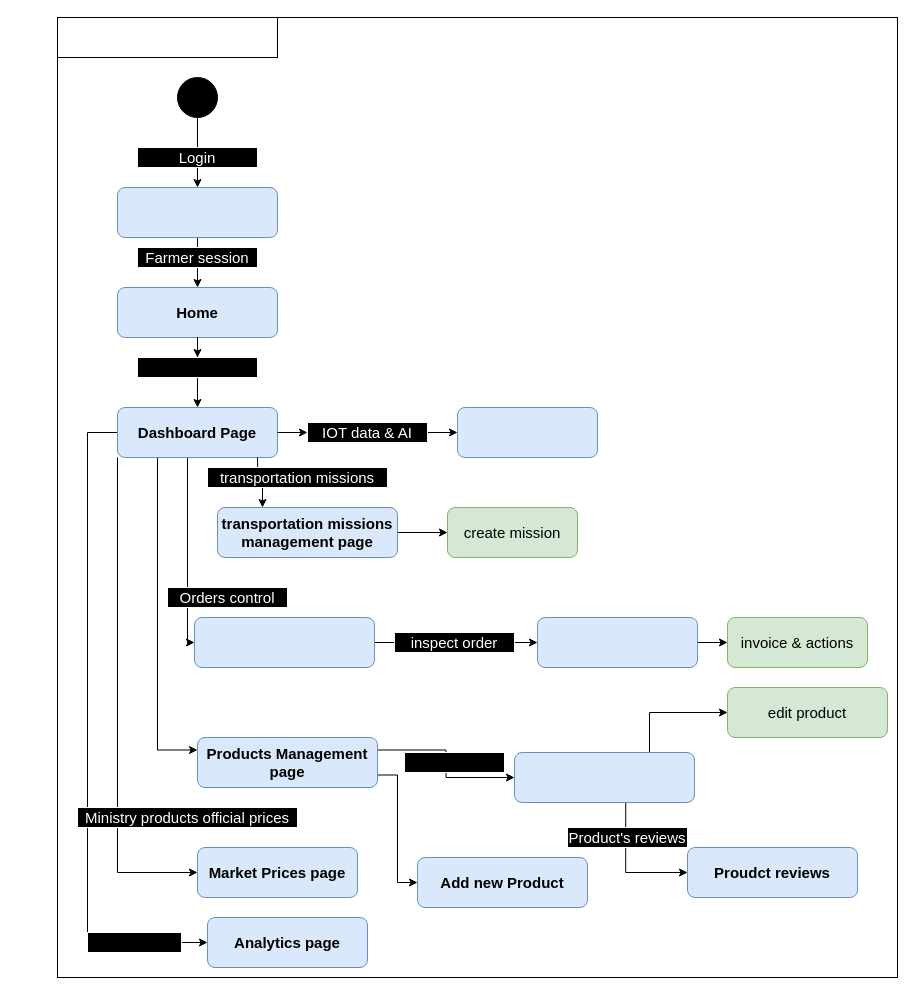
This 915x995 diagram has some shape labels left out. The centre of each missing label's shape, as x and y in pixels:
"Analytics" goes at pixel 134 942.
"dashboard" goes at pixel 197 367.
"IOT/AI page" goes at pixel 527 432.
"Login page" goes at pixel 197 212.
"Navigation Diagram : Farmer" goes at pixel 167 37.
"order details" goes at pixel 617 642.
"Orders Management page" goes at pixel 284 642.
"Product details page(farmer's)" goes at pixel 604 777.
"product info" goes at pixel 454 762.
